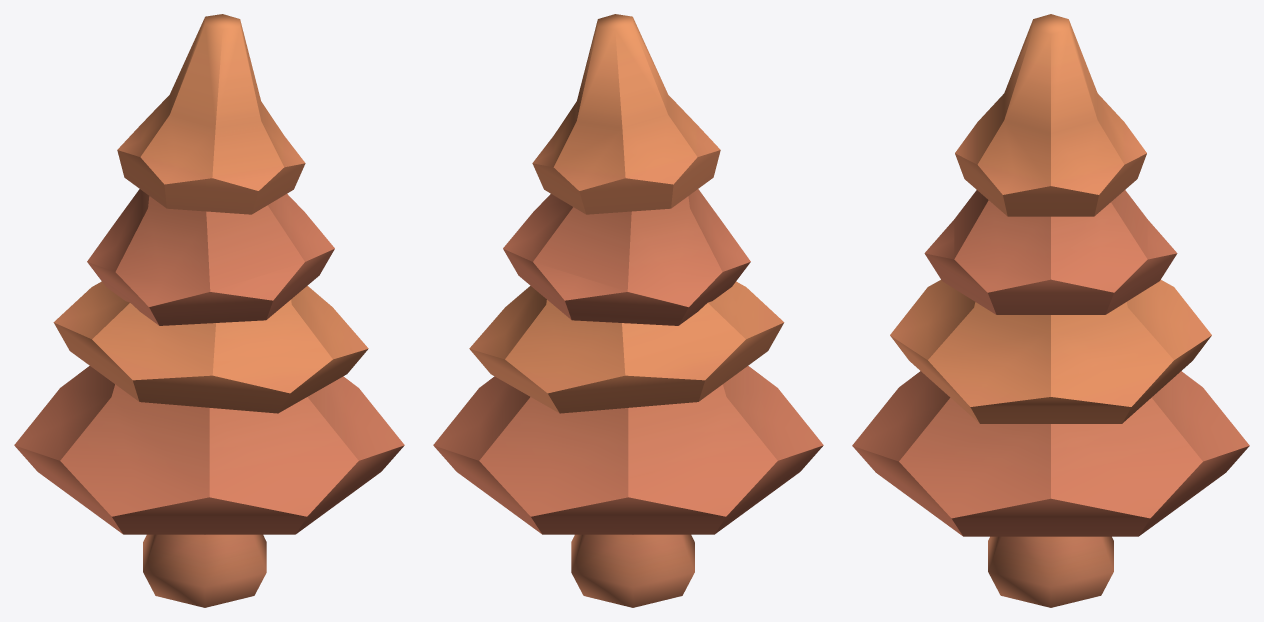
File: pine-fall-crooked.glb
The picture shows the model from 3 angles, left to right: view 1: azimuth 30°, elevation 25°; view 2: azimuth 150°, elevation 25°; view 3: azimuth 270°, elevation 25°; orthographic projection.
Visible parts, largest first — view 1: pine-fall-crooked; view 2: pine-fall-crooked; view 3: pine-fall-crooked.
Boxes of the visible parts, left/top/right/bottom form: pine-fall-crooked: left=14, top=14, right=404, bottom=607; pine-fall-crooked: left=433, top=14, right=823, bottom=607; pine-fall-crooked: left=852, top=14, right=1249, bottom=607.
Bounding box in the file's own units: 1.18 × 2.11 × 1.33.
Materials: 1 (1 with a texture image).
